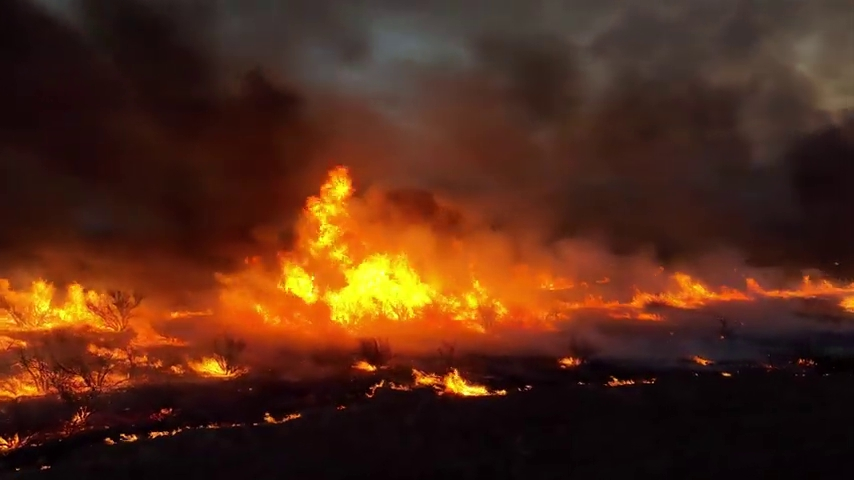forest_fire: (0, 167, 853, 400), (414, 367, 505, 395)
